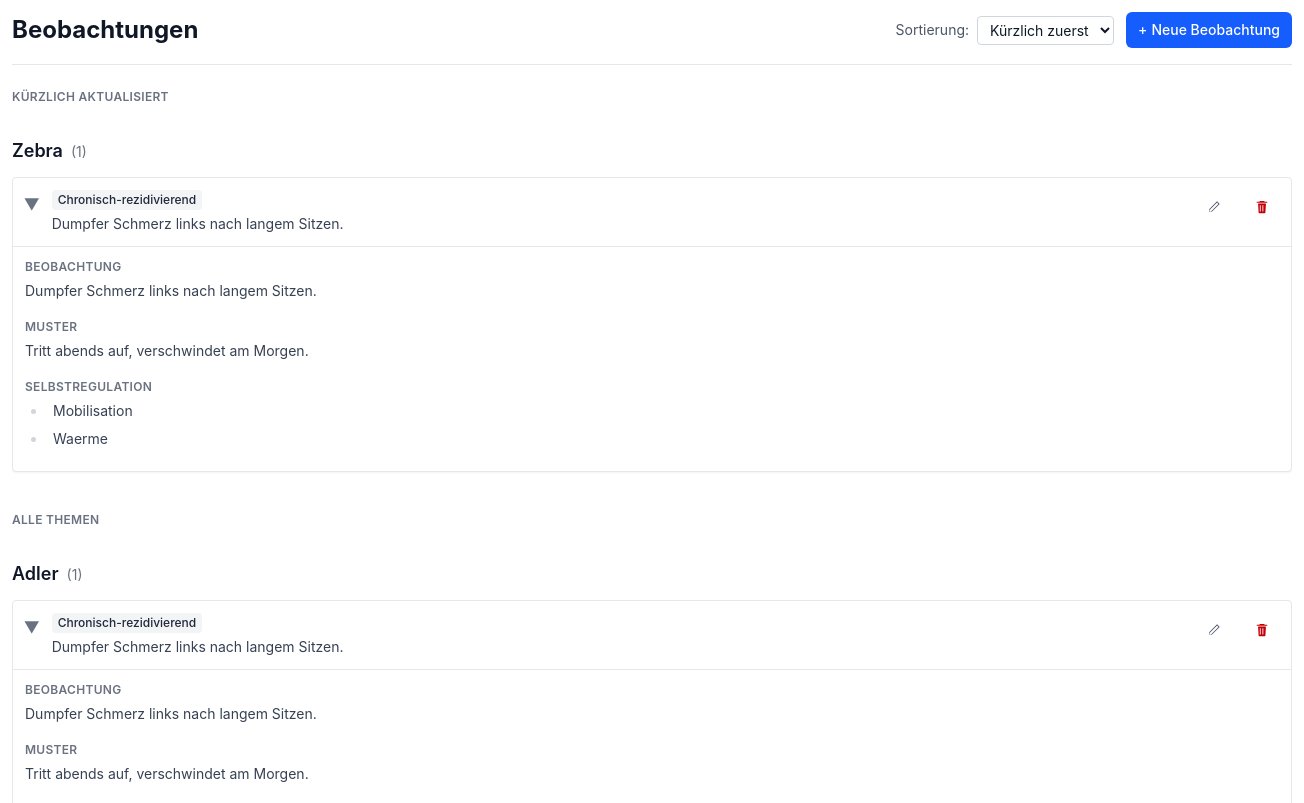
Test case: ObservationsView › sort sections (V-02b) › switches to the alphabetical mode via the toggle, hiding section headings
Expected: the text "Kürzlich aktualisiert" is shown, [12,89,169,104]
Select "Alphabetisch" in the dropdown labelled "Sortierung" at point(1046, 30), box [977,16,1114,44]
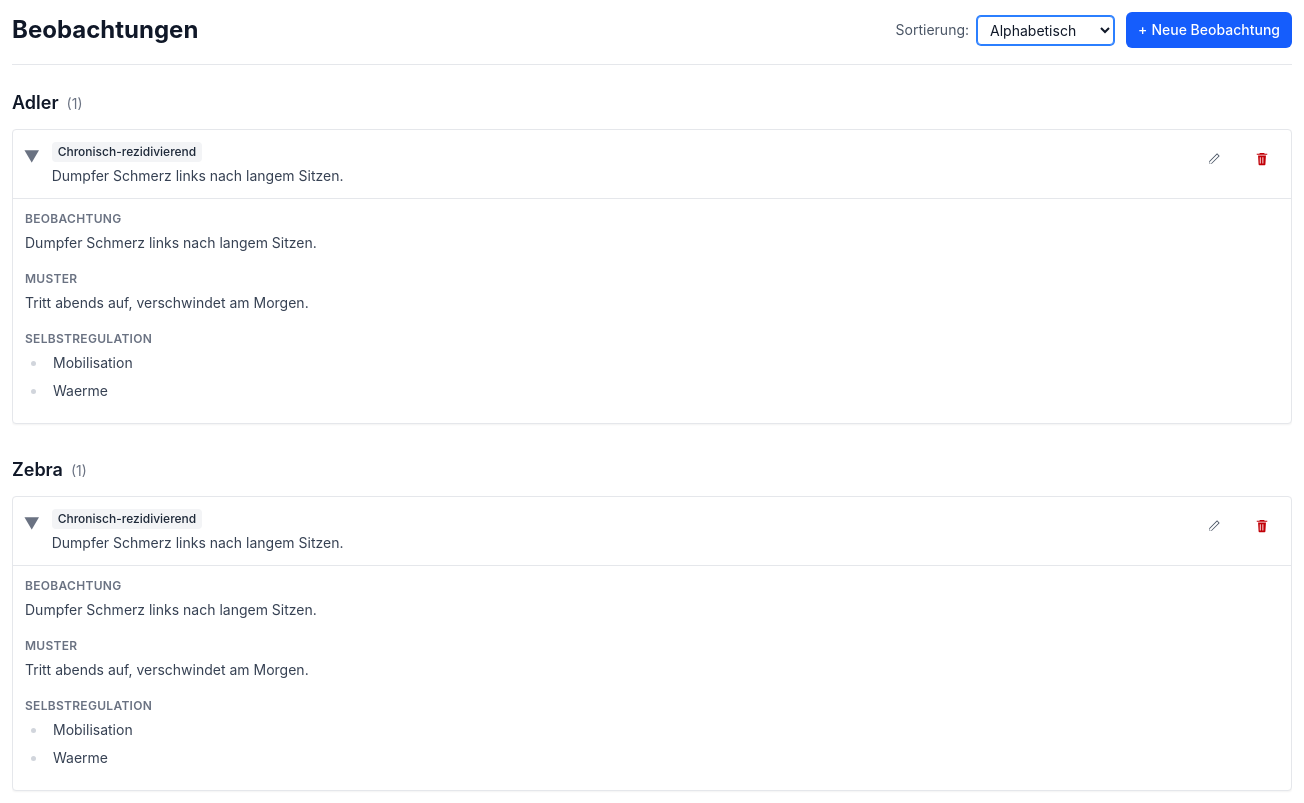
Expected: the heading "Adler (1)" is shown, [12,92,82,113]
Expected: the text with test id "section-heading-recent" is gone
Expected: the text with test id "section-heading-all" is gone
